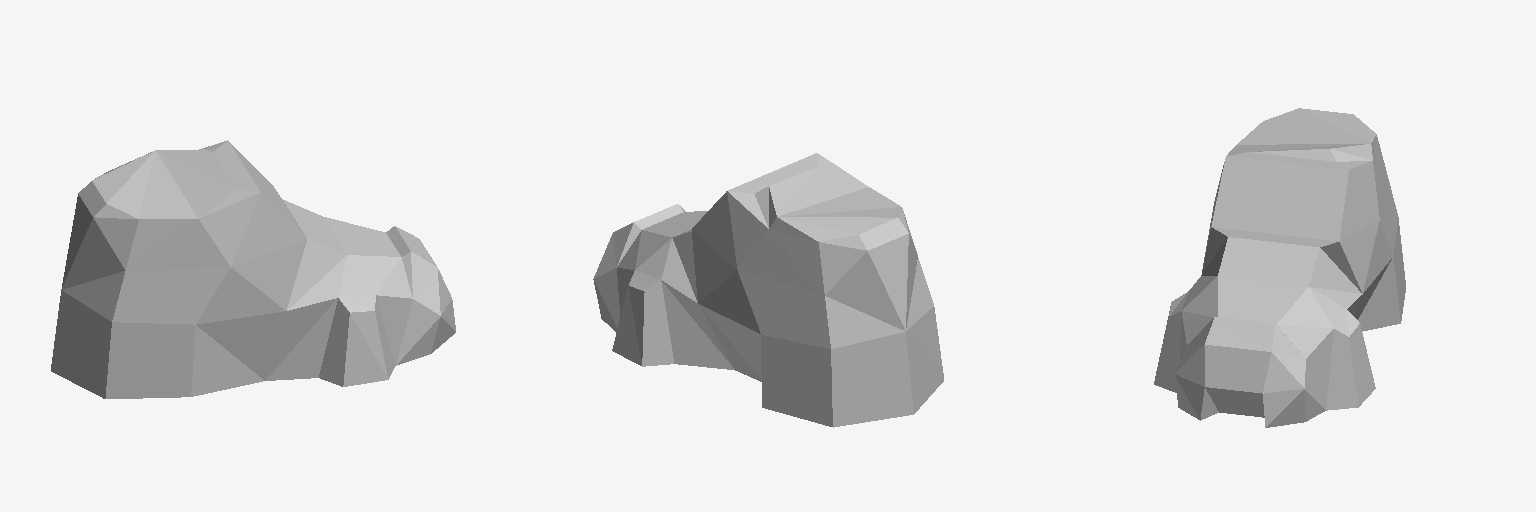
File: Chief Right Foot.obj
The picture shows the model from 3 angles: view 1: azimuth 30°, elevation 25°; view 2: azimuth 150°, elevation 25°; view 3: azimuth 270°, elevation 25°; orthographic projection.
Parts seen in each view (by area): view 1: MasterChief; view 2: MasterChief; view 3: MasterChief.
Boxes of the visible parts, x1=… form: MasterChief: x1=51, y1=140, x2=455, y2=398; MasterChief: x1=593, y1=153, x2=943, y2=427; MasterChief: x1=1154, y1=108, x2=1405, y2=427.
Size of the model in its own units: 0.2039 by 0.105 by 0.127.